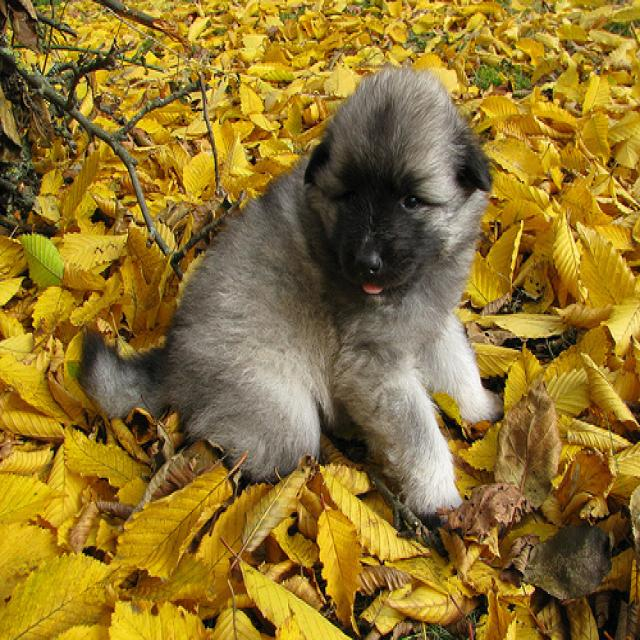dog-keeshond: (67, 58, 507, 526)
